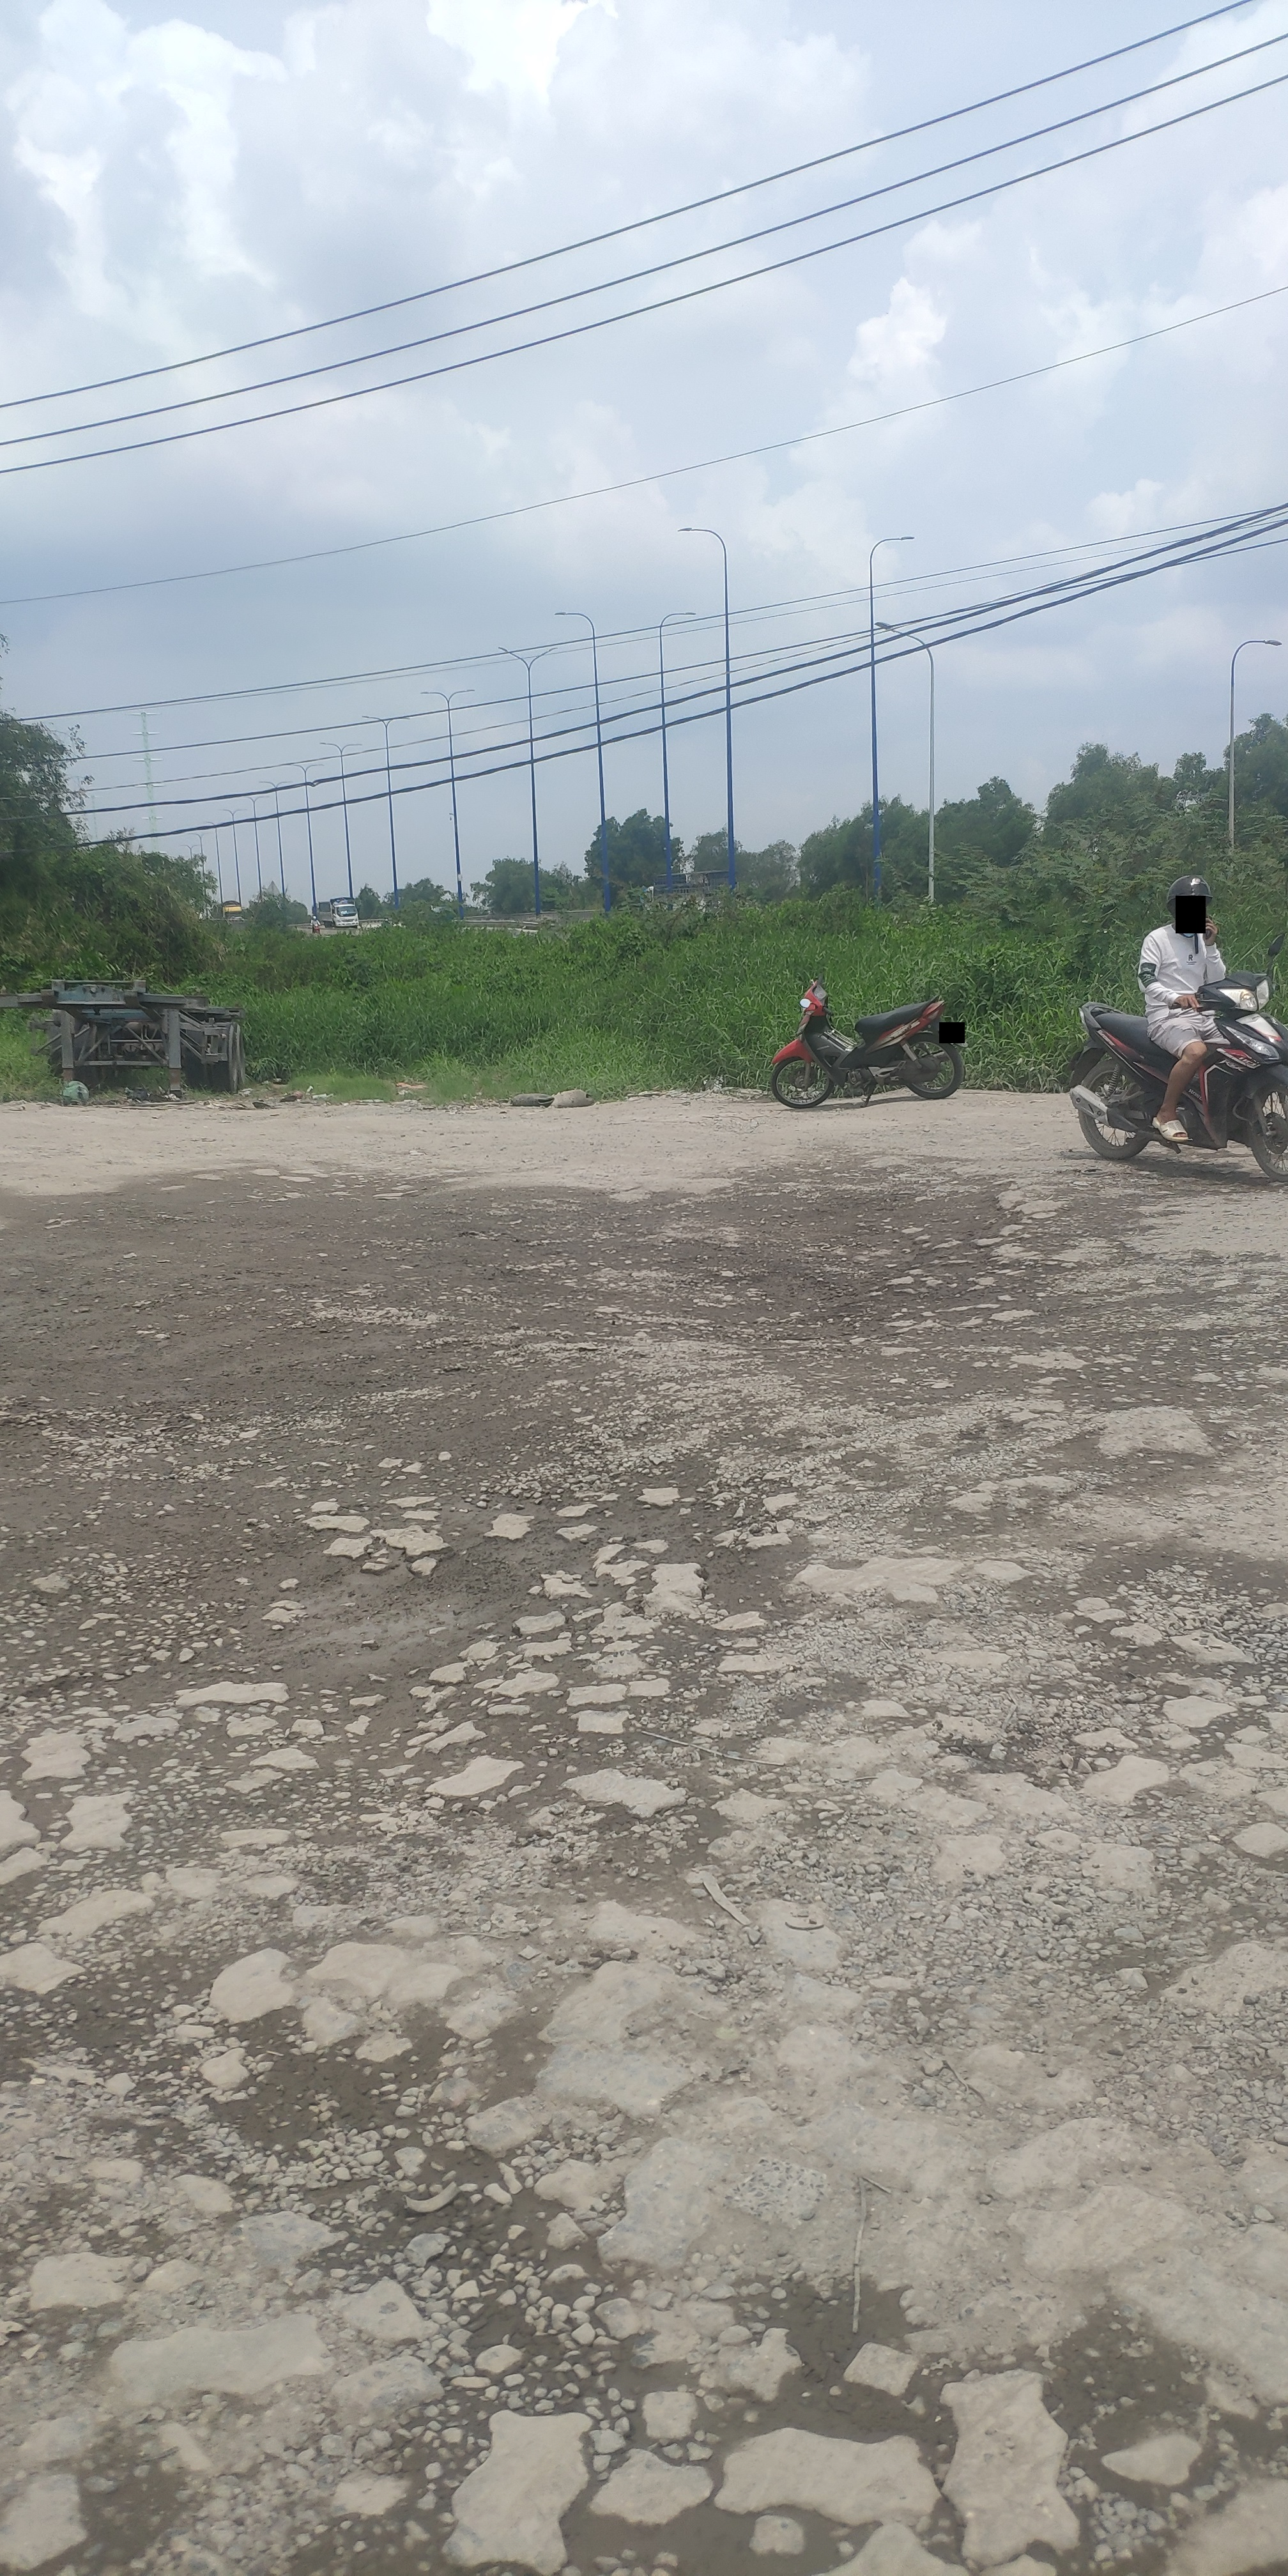hole: (258, 1538, 513, 1704), (1112, 1552, 1288, 1690), (723, 1253, 945, 1349)
